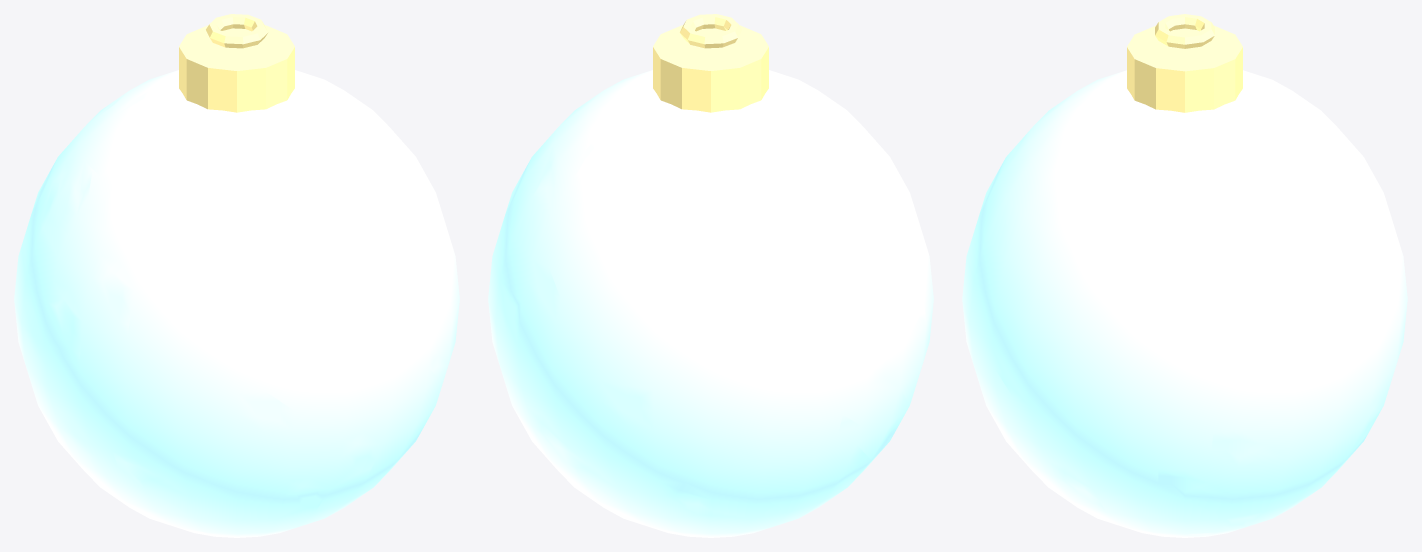
File: xmas_bauble.glb
3 renders of one model, left to right at view 1: azimuth 30°, elevation 25°; view 2: azimuth 150°, elevation 25°; view 3: azimuth 270°, elevation 25°, orthographic.
Parts seen in each view (by area): view 1: Bauble; view 2: Bauble; view 3: Bauble.
Part boxes in pixels (x1,y1,x2,y2): Bauble: (14, 14, 459, 537); Bauble: (488, 14, 933, 537); Bauble: (962, 14, 1407, 537).
Size of the model in its own units: 1.84 by 2.25 by 1.84.
